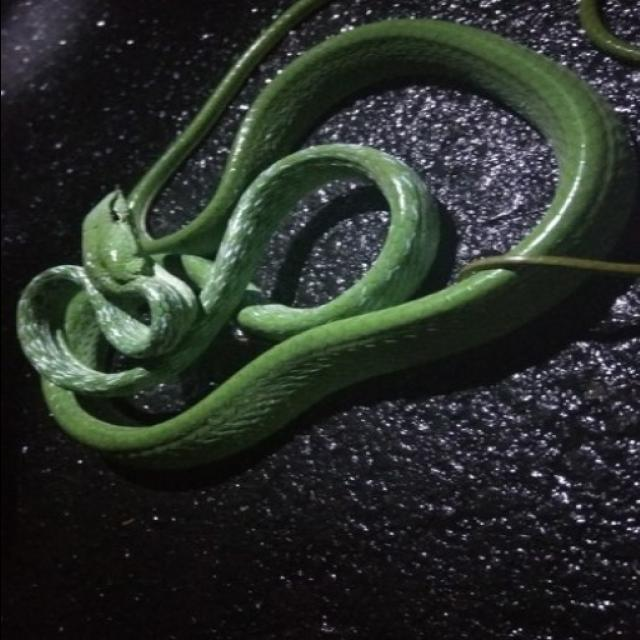snake: (0, 0, 640, 476)
